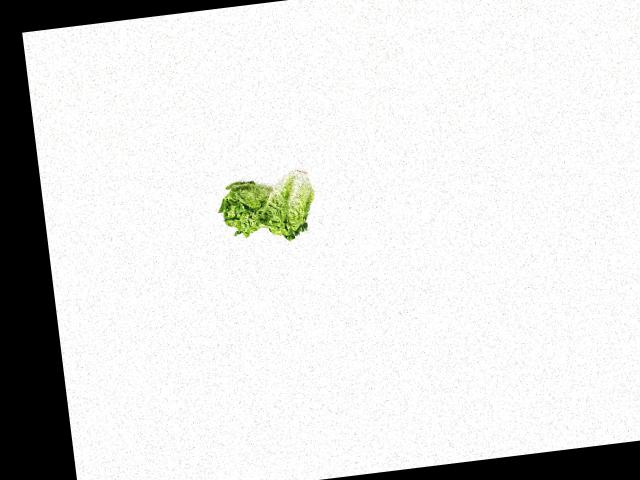lettuce: (214, 169, 282, 241)
